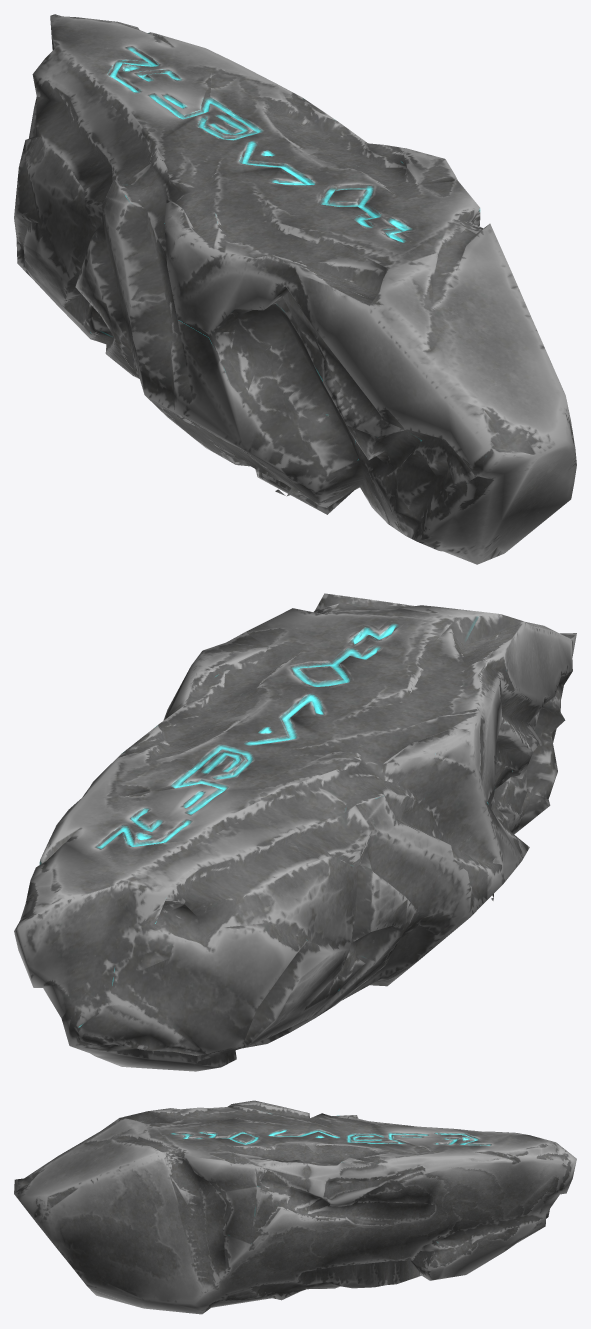
File: runeStone.fbx
3 renders of one model, top to bottom at view 1: azimuth 30°, elevation 25°; view 2: azimuth 150°, elevation 25°; view 3: azimuth 270°, elevation 25°, orthographic. The views are drawn at different scales.
Parts seen in each view (by area): view 1: Low Poly Fantasy Rune Stone; view 2: Low Poly Fantasy Rune Stone; view 3: Low Poly Fantasy Rune Stone.
Boxes of the visible parts, x1,y1,x2,y2 form: Low Poly Fantasy Rune Stone: (14, 14, 576, 564); Low Poly Fantasy Rune Stone: (14, 593, 576, 1071); Low Poly Fantasy Rune Stone: (14, 1100, 576, 1314).
Bounding box in the file's own units: 51149 × 43560 × 142851.
